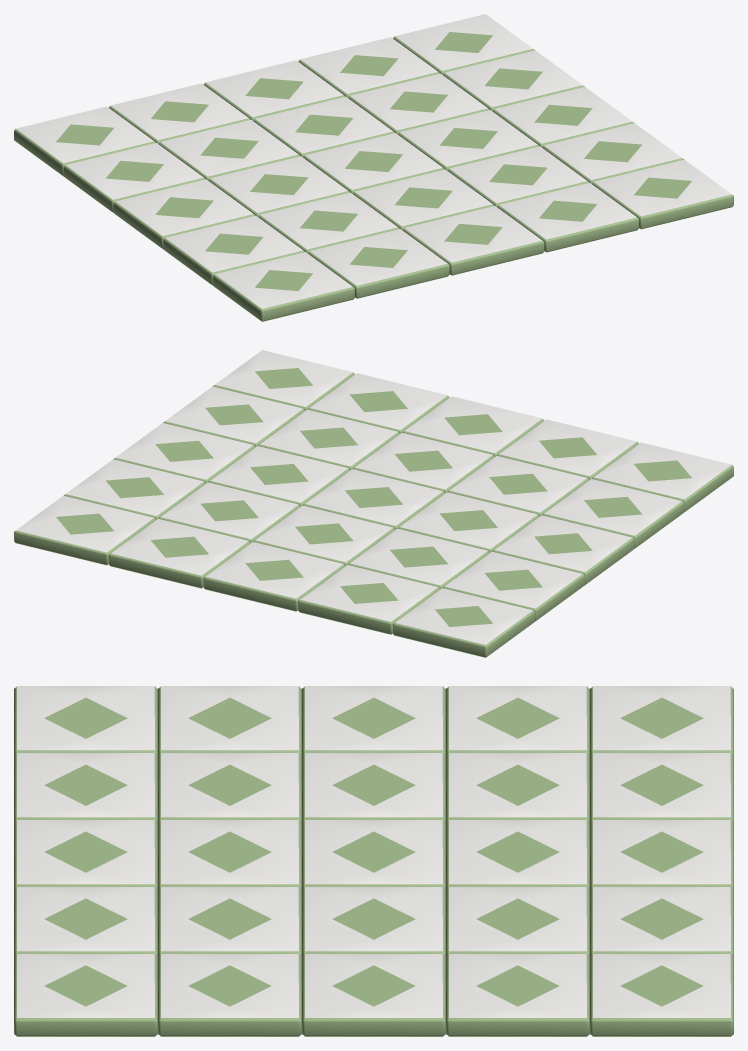
File: Floor_diamond.glb
3 renders of one model, top to bottom at view 1: azimuth 30°, elevation 25°; view 2: azimuth 150°, elevation 25°; view 3: azimuth 270°, elevation 25°, orthographic. The views are drawn at different scales.
Visible parts, largest first — view 1: Floor_15; view 2: Floor_15; view 3: Floor_15.
Boxes of the visible parts, x1=… form: Floor_15: x1=14, y1=14, x2=733, y2=321; Floor_15: x1=14, y1=350, x2=733, y2=657; Floor_15: x1=14, y1=686, x2=733, y2=1036.
Bounding box in the file's own units: 4.6 × 0.12 × 4.18.
Materials: 1 (1 with a texture image).
